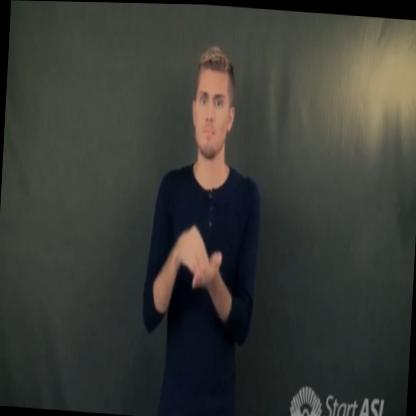Expensive: (154, 200, 231, 299)
